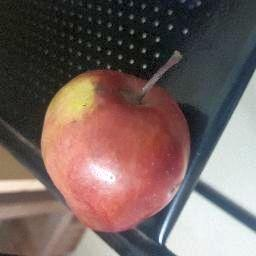apple: (37, 32, 200, 242)
